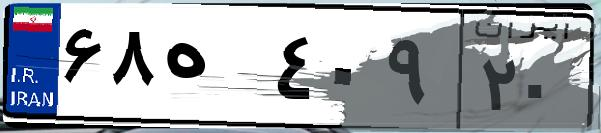0: (330, 28, 385, 110), (525, 38, 570, 115)
2: (475, 38, 525, 113)
4: (270, 28, 330, 110)
6: (57, 26, 110, 100)
8: (110, 28, 158, 98)
9: (385, 28, 445, 110)
ه: (158, 20, 270, 120)
